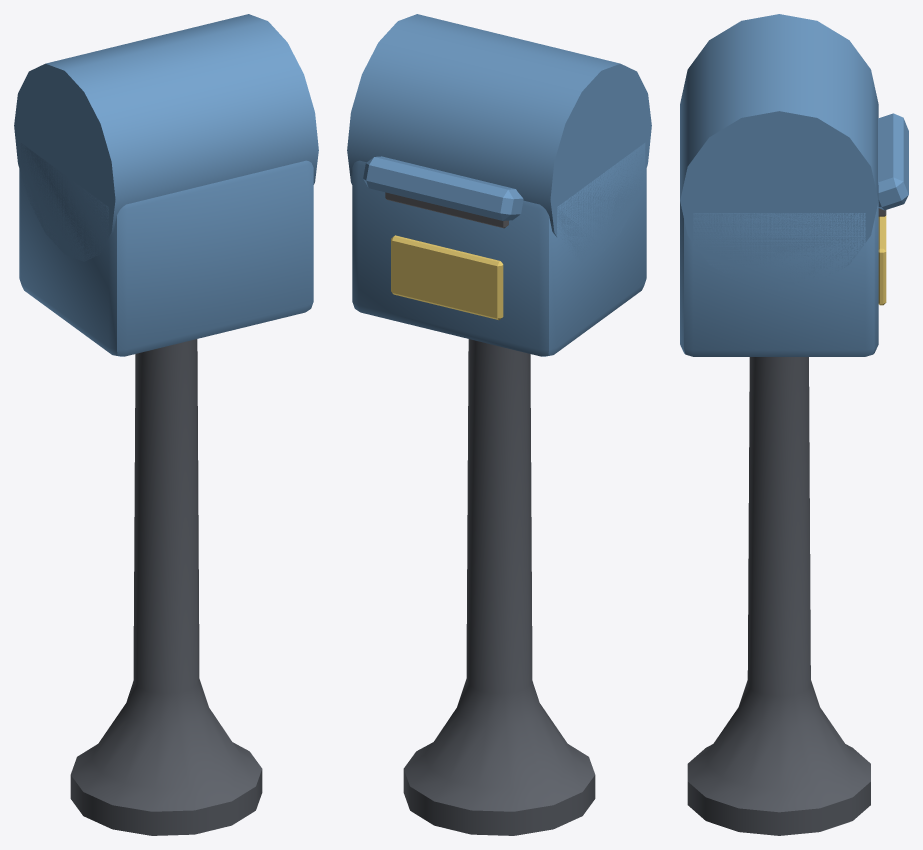
The model's file is Town_Mailbox.fbx.
3 views of the same model, side by side, from view 1: azimuth 30°, elevation 25°; view 2: azimuth 150°, elevation 25°; view 3: azimuth 270°, elevation 25° (orthographic). The views are drawn at different scales.
Visible parts, largest first — view 1: Town_Mailbox; view 2: Town_Mailbox; view 3: Town_Mailbox.
Boxes of the visible parts, bbox=[...] form: Town_Mailbox: bbox=[14, 14, 318, 835]; Town_Mailbox: bbox=[347, 14, 651, 835]; Town_Mailbox: bbox=[680, 14, 908, 835].
Bounding box in the file's own units: 0.44 × 1.55 × 0.438.
